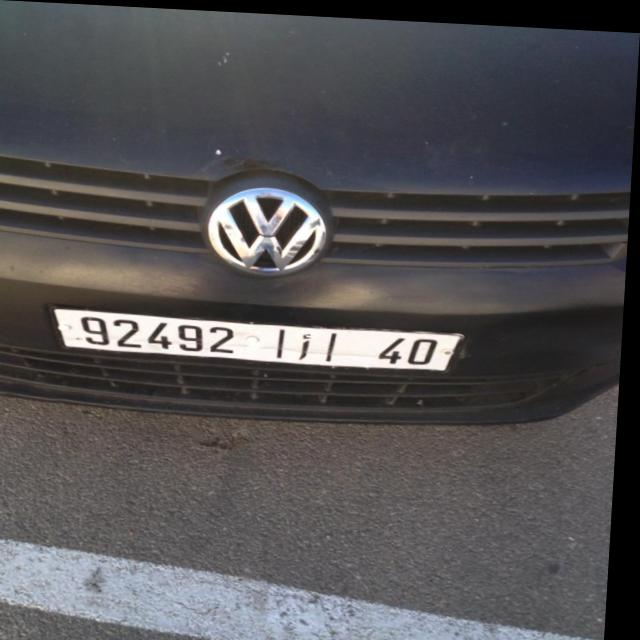License-Plate: (56, 307, 467, 366)
